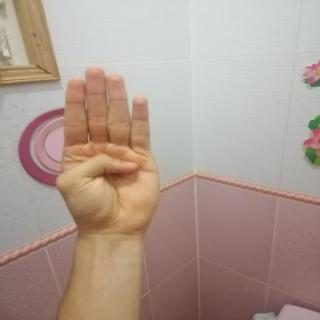KAAF: (38, 59, 184, 246)
